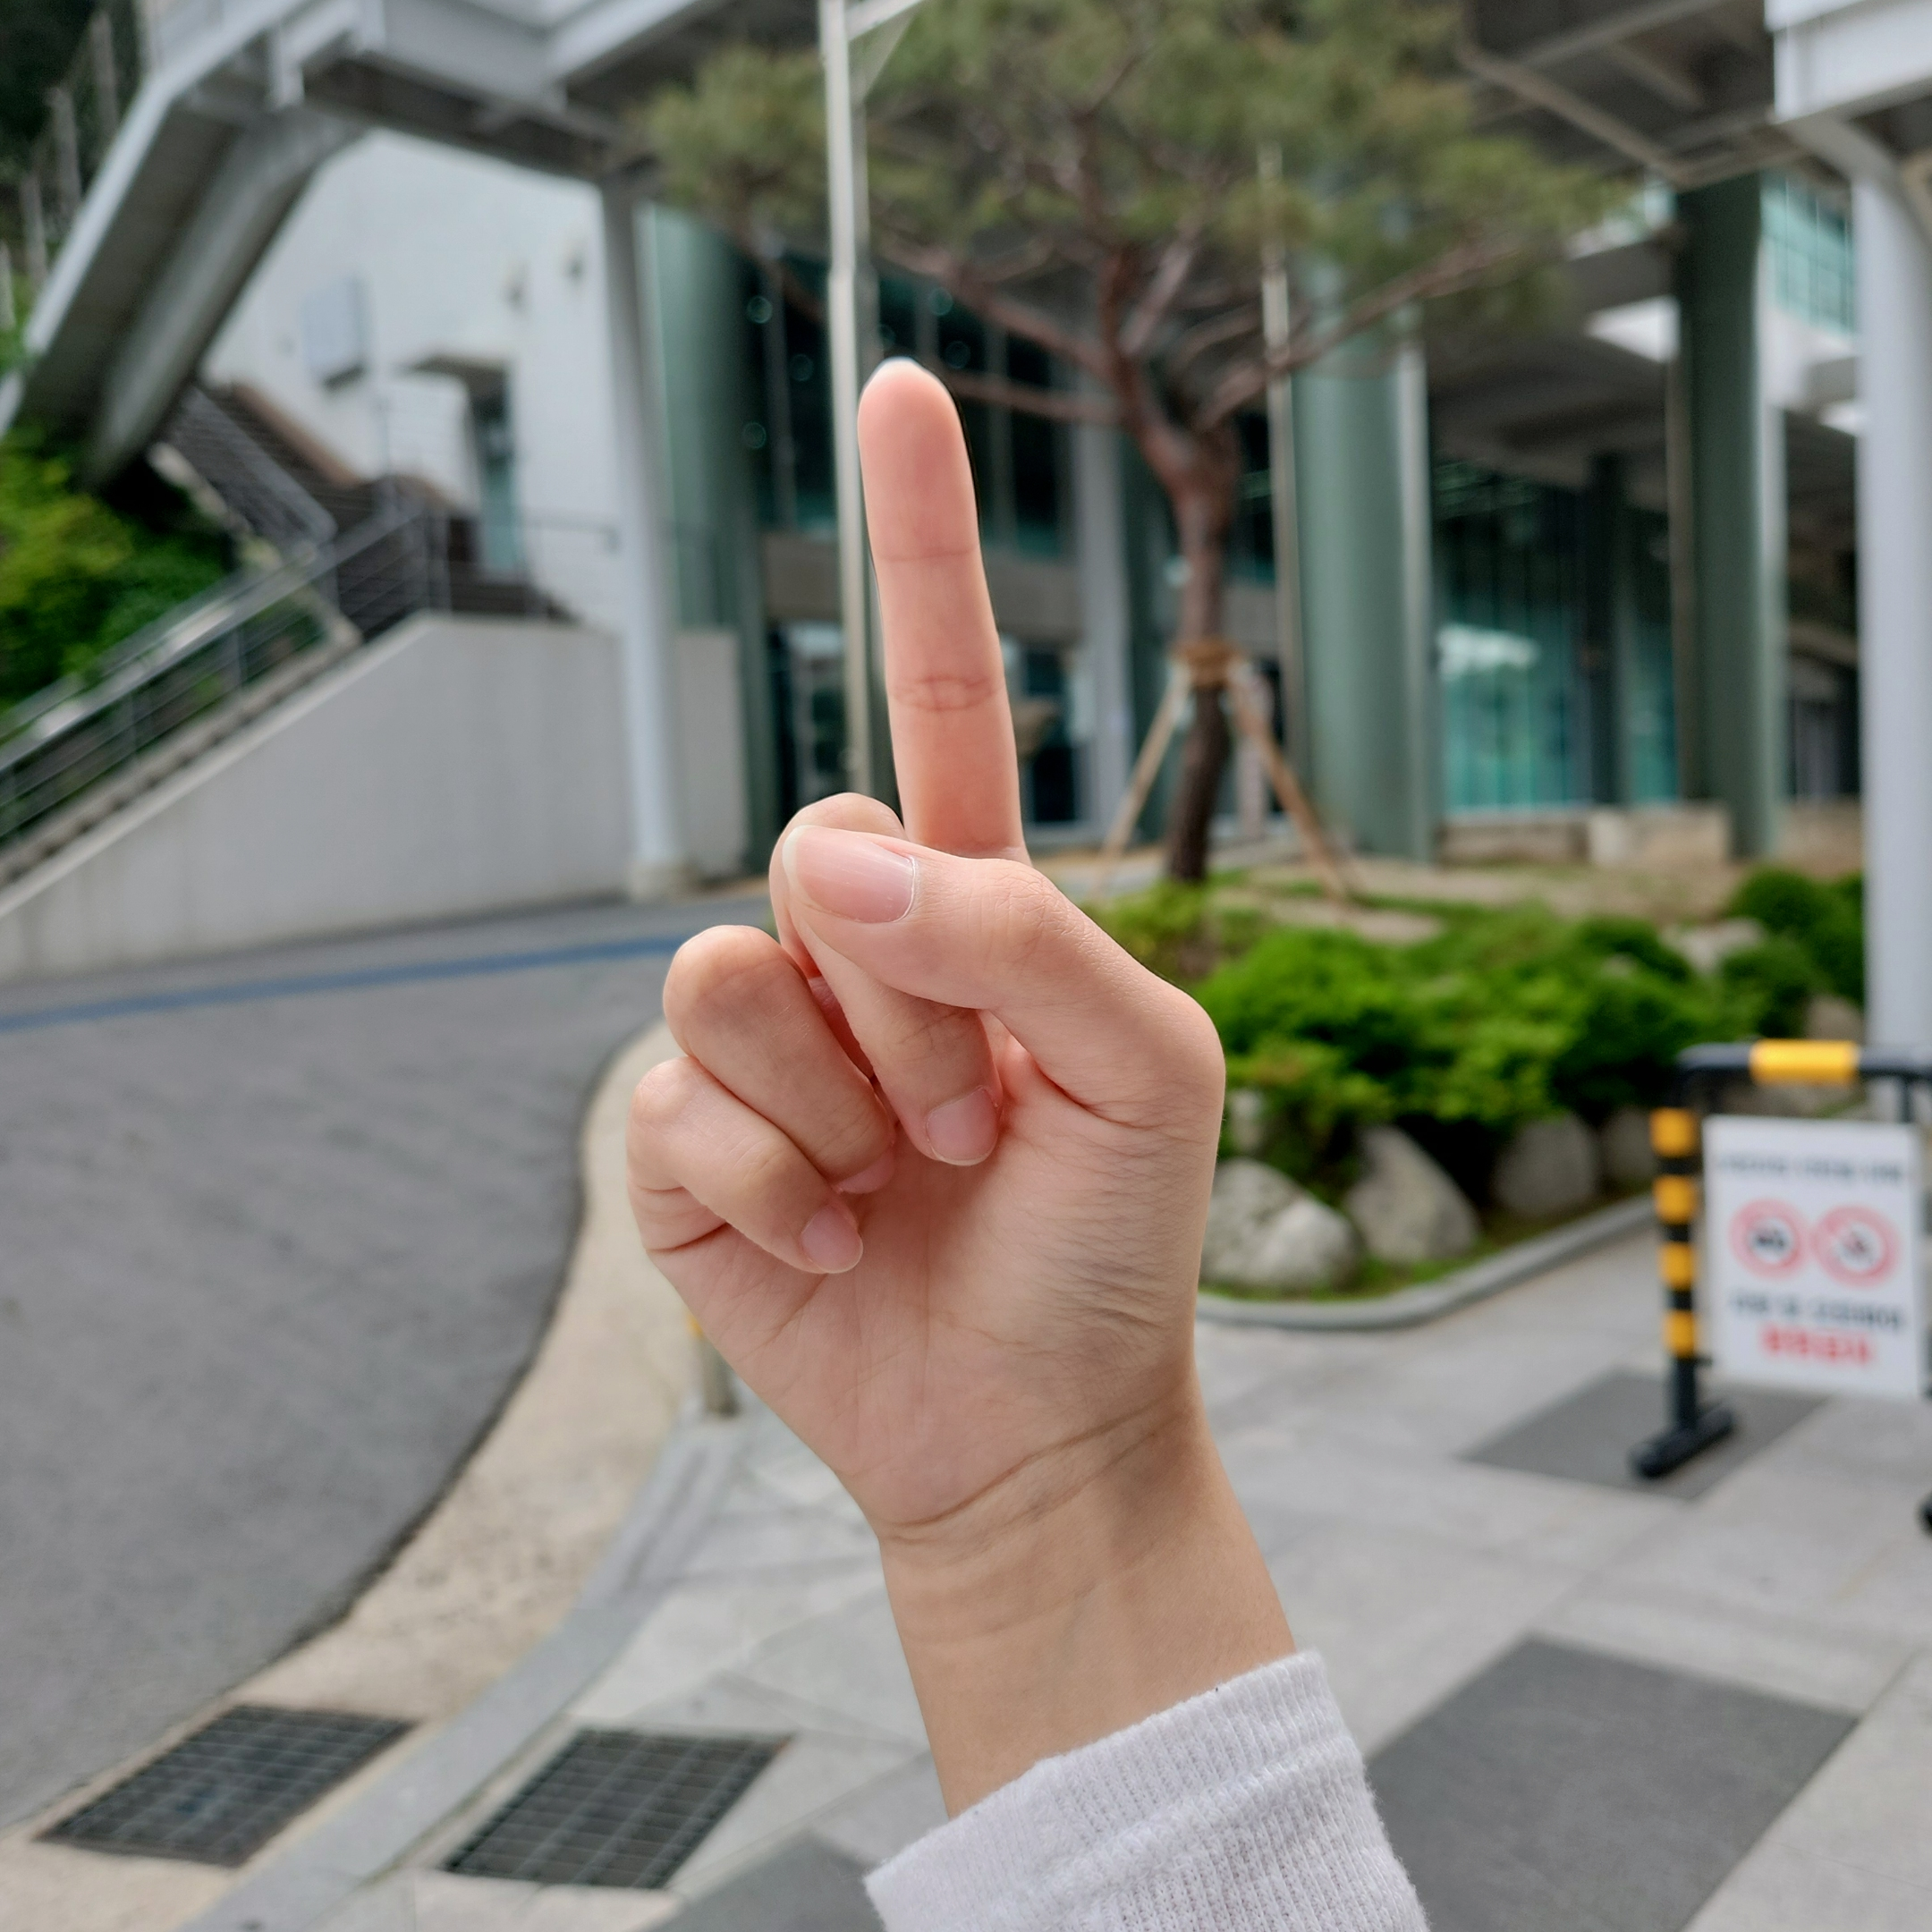what: (614, 361, 1240, 1516)
